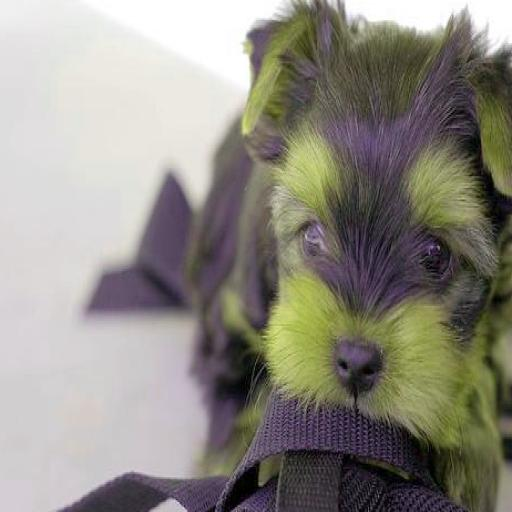dog_face: (218, 8, 512, 419)
